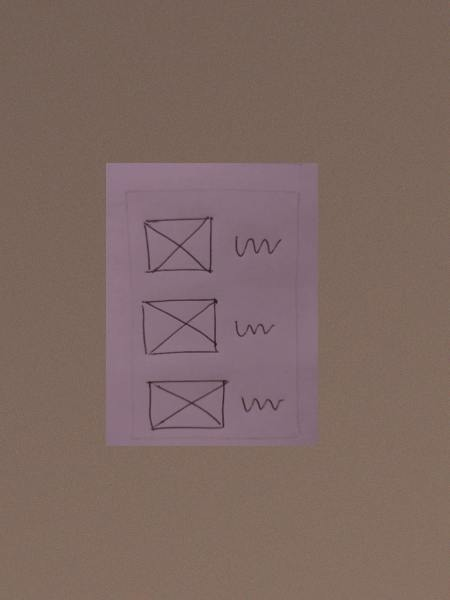image: (138, 295, 222, 360), (141, 376, 231, 434), (140, 214, 217, 281)
text: (231, 230, 284, 264), (240, 393, 289, 423), (234, 316, 278, 343)
